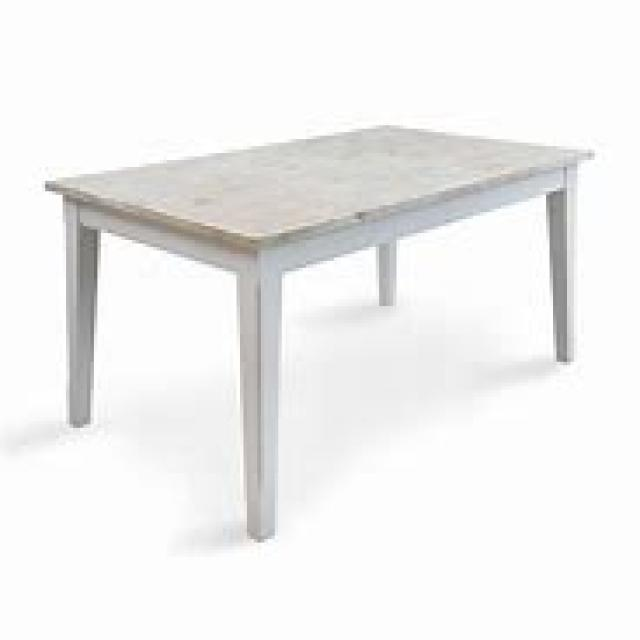table: (42, 118, 595, 543)
